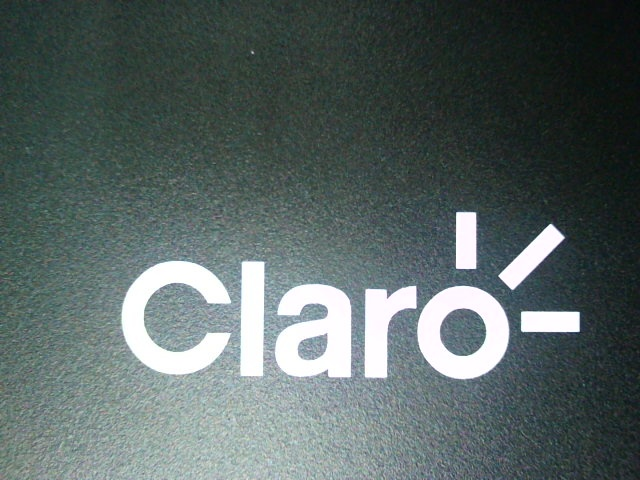BC_Claor: (94, 190, 590, 377)
